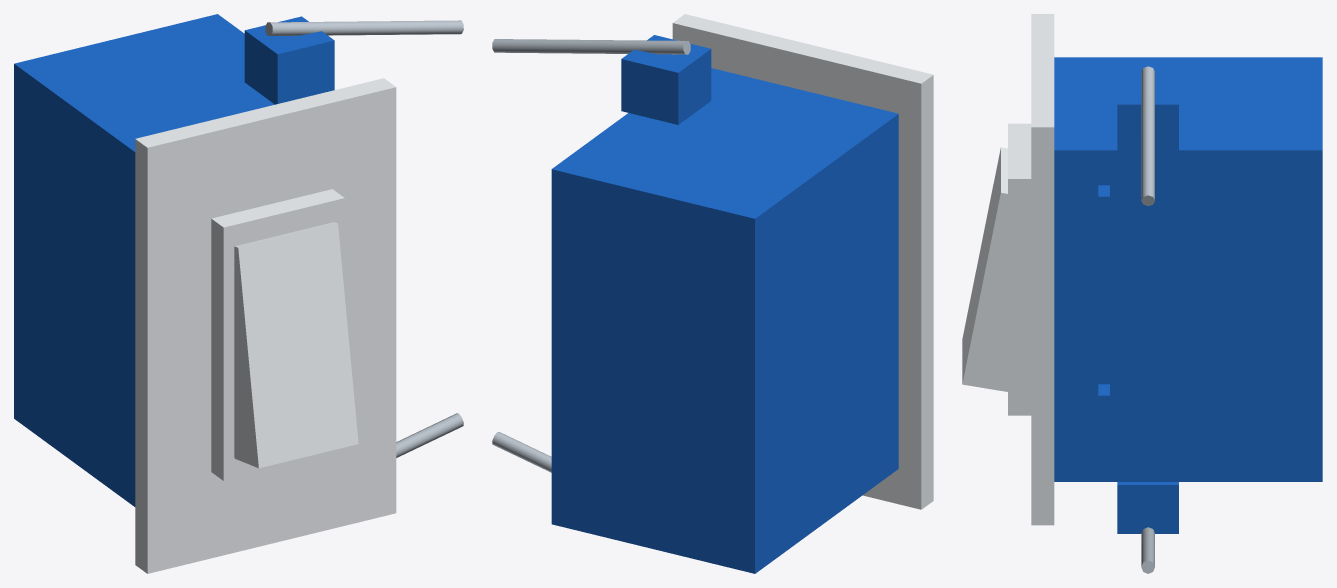
3 renders of one model, left to right at view 1: azimuth 30°, elevation 25°; view 2: azimuth 150°, elevation 25°; view 3: azimuth 270°, elevation 25°, orthographic. The views are drawn at different scales.
Parts seen in each view (by area): view 1: cad-device-switch-1p, cad-box-single-gang-standard; view 2: cad-box-single-gang-standard, cad-device-switch-1p; view 3: cad-box-single-gang-standard, cad-device-switch-1p.
Boxes of the visible parts, <box> form: cad-device-switch-1p: <box>135,78,396,573</box>; cad-box-single-gang-standard: <box>14,14,463,506</box>; cad-box-single-gang-standard: <box>492,35,898,573</box>; cad-device-switch-1p: <box>672,14,933,509</box>; cad-box-single-gang-standard: <box>1054,57,1322,573</box>; cad-device-switch-1p: <box>962,14,1054,525</box>.
Size of the model in its own units: 0.1057 by 0.1328 by 0.0938.
